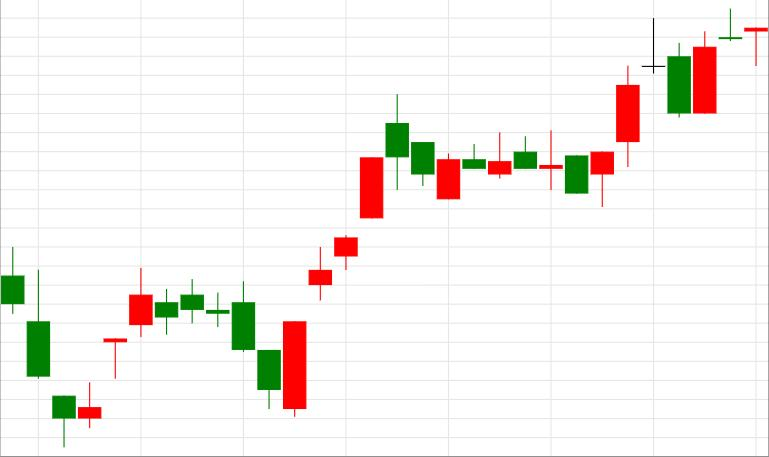bullish_engulfing_rise: (181, 279, 306, 416)
